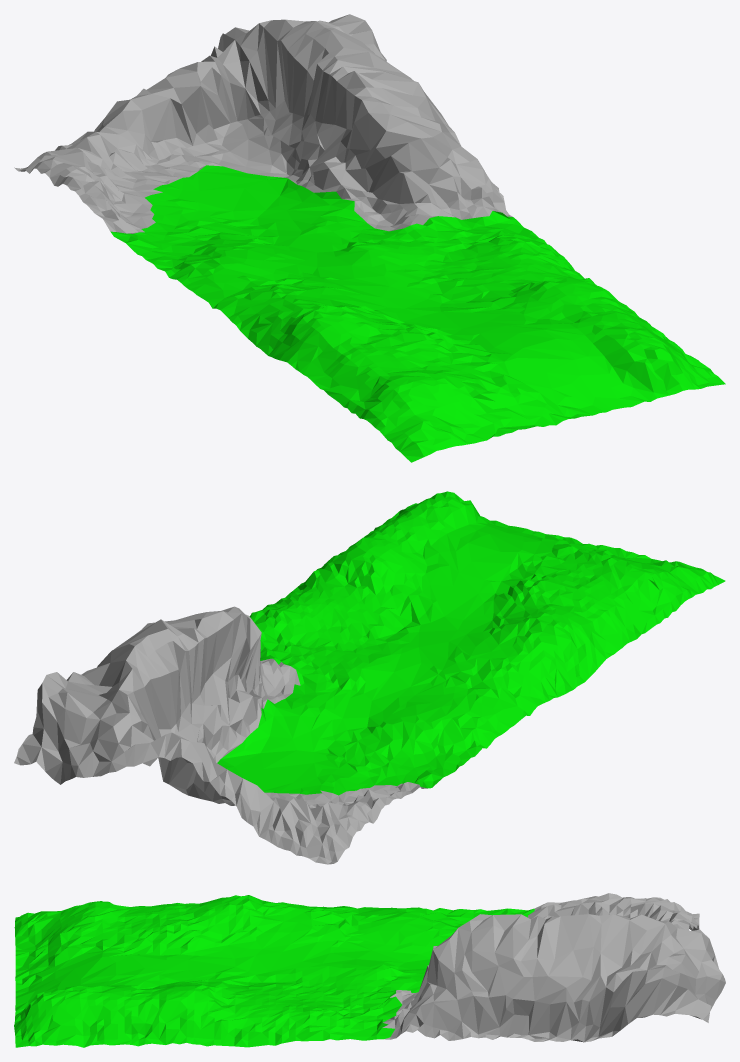
File: shed.fbx
The picture shows the model from 3 angles, top to bottom: view 1: azimuth 30°, elevation 25°; view 2: azimuth 150°, elevation 25°; view 3: azimuth 270°, elevation 25°; orthographic projection. The views are drawn at different scales.
Parts seen in each view (by area): view 1: pPlane4; view 2: pPlane4; view 3: pPlane4.
Boxes of the visible parts, box(x1,y1,x2,y2) form: pPlane4: box(14, 14, 725, 462); pPlane4: box(14, 491, 725, 864); pPlane4: box(14, 893, 725, 1047).
Size of the model in its own units: 163 by 58.85 by 347.
